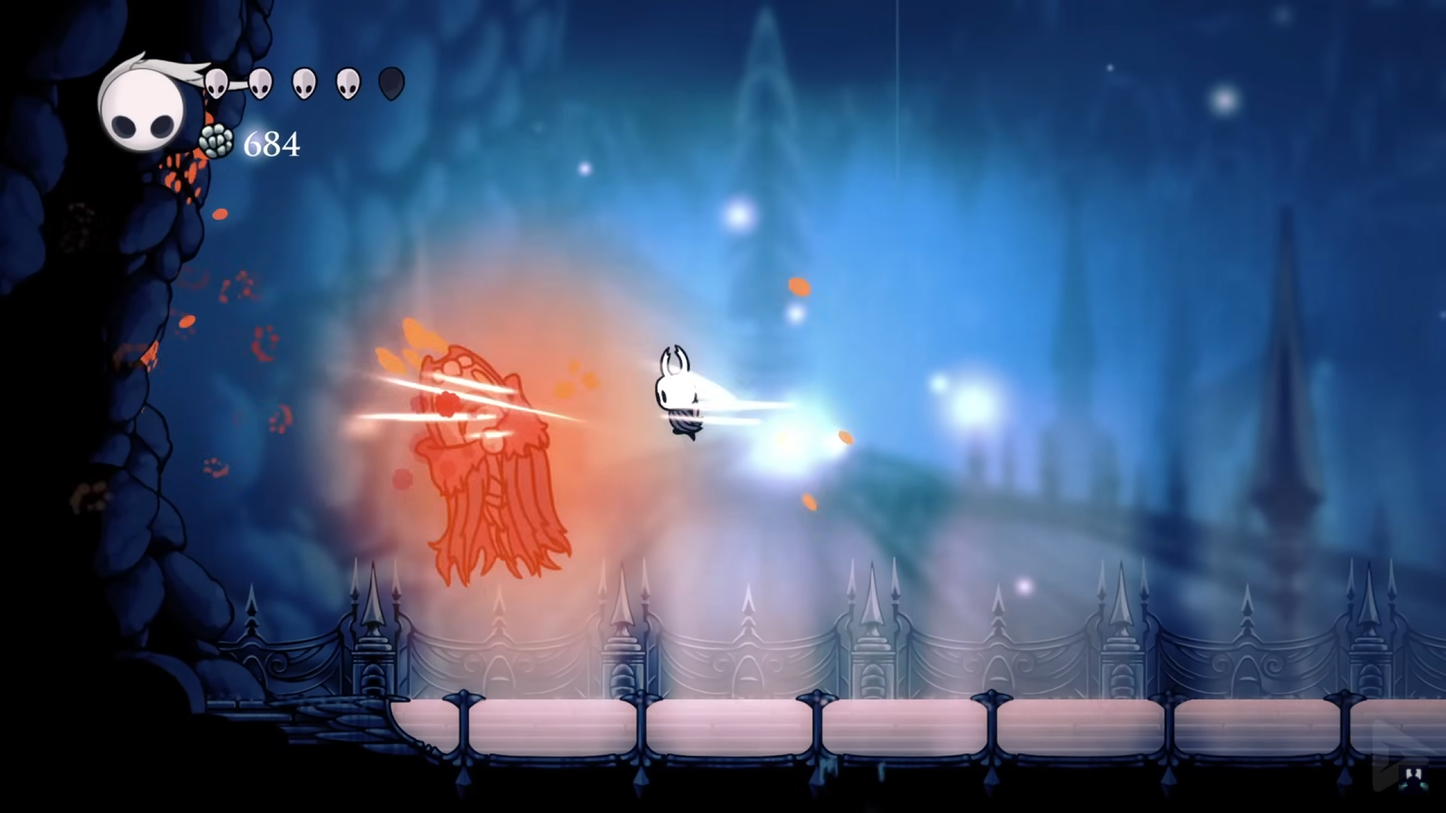HK: (650, 341, 710, 446)
